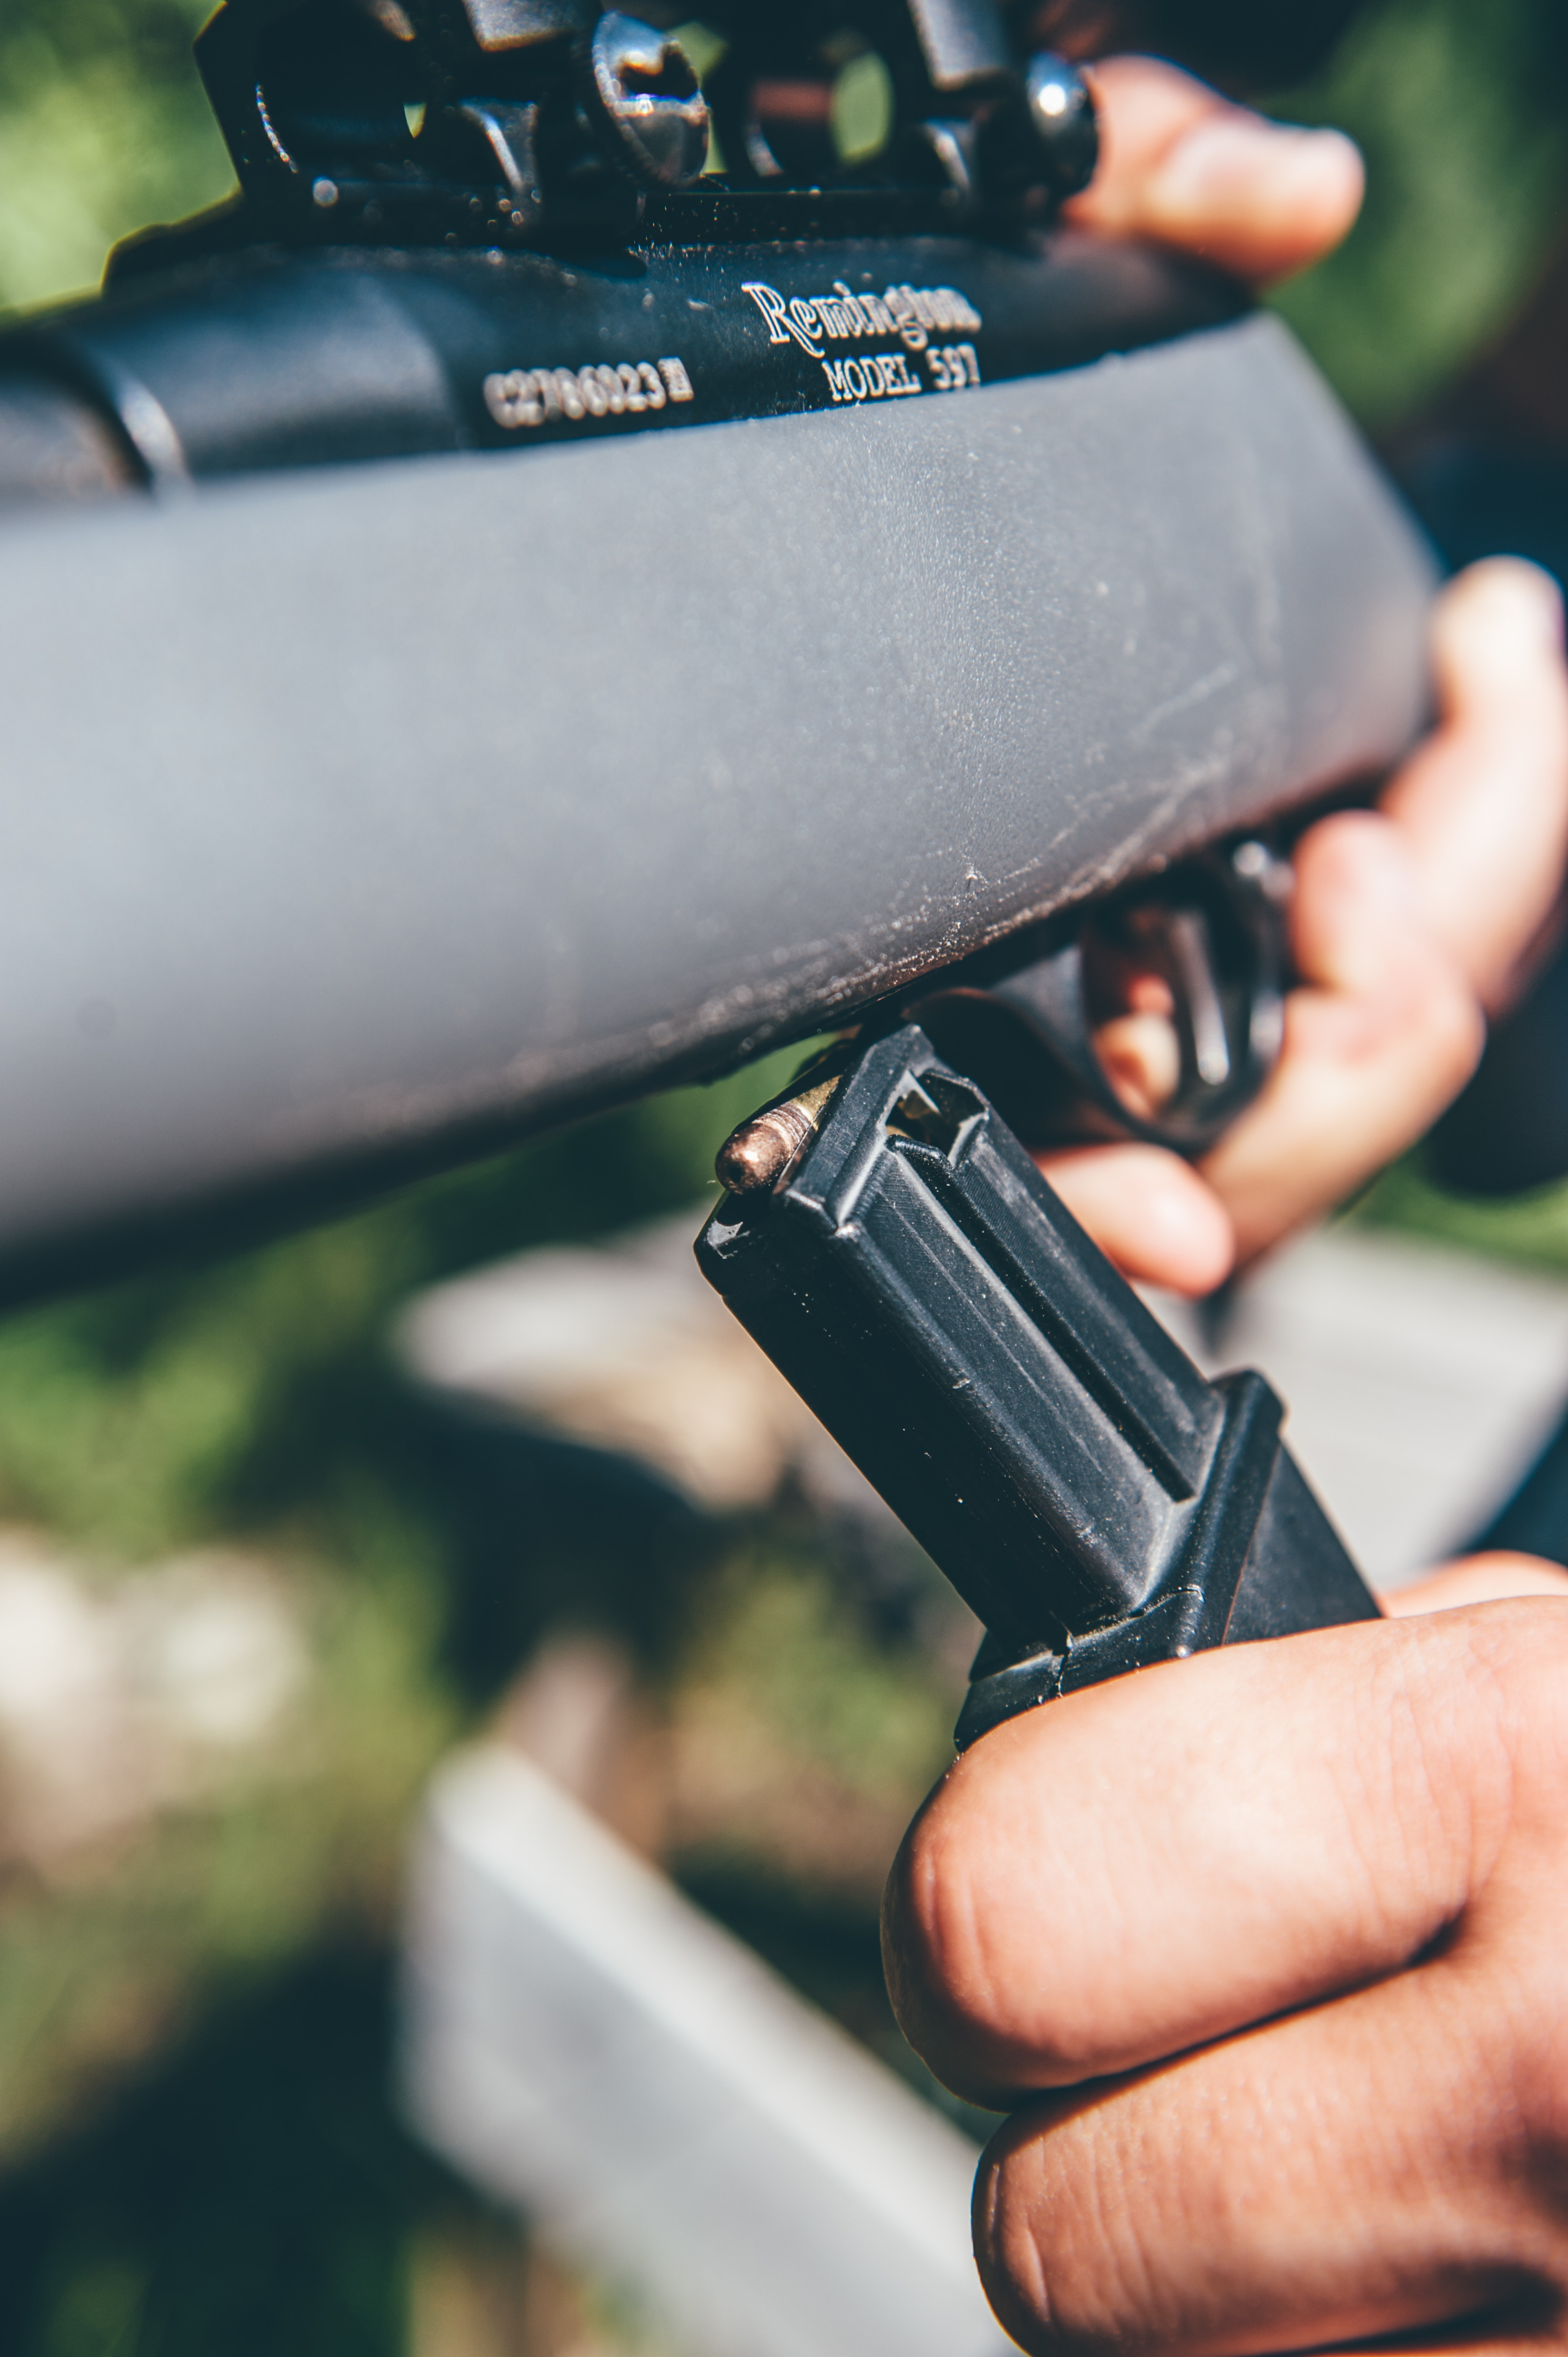gun: (0, 28, 1568, 1333)
